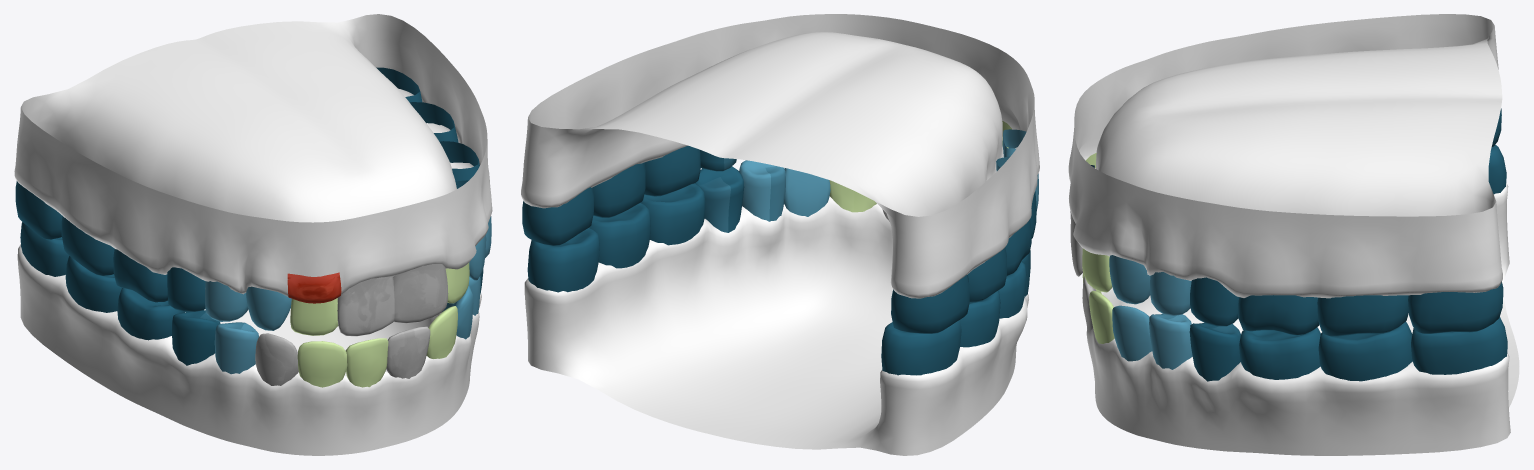
The model's file is mouth.fbx.
The picture shows the model from 3 angles, left to right: view 1: azimuth 30°, elevation 25°; view 2: azimuth 150°, elevation 25°; view 3: azimuth 270°, elevation 25°; orthographic projection. The views are drawn at different scales.
Parts seen in each view (by area): view 1: jaw_up, jaw_down, teeth.rest, target.teeth_y_1.001, target.teeth_y_2.001, target.teeth_r_3, target.teeth_y_3.001, target.teeth_y_4.001, target.teeth_r_4, target.teeth_r_2, blood_up.001, target.teeth_r_5 (+1 smaller); view 2: jaw_up, jaw_down, teeth.rest, target.teeth_r_5; view 3: jaw_up, jaw_down, teeth.rest, target.teeth_r_5, target.teeth_r_1, target.teeth_y_2.001.
Part boxes in pixels (<box>): jaw_up: <box>14,14,492,296</box>; jaw_down: <box>17,244,481,455</box>; teeth.rest: <box>15,67,491,374</box>; target.teeth_y_1.001: <box>337,276,394,336</box>; target.teeth_y_2.001: <box>393,264,448,323</box>; target.teeth_r_3: <box>297,341,347,387</box>; target.teeth_y_3.001: <box>255,333,298,385</box>; target.teeth_y_4.001: <box>386,326,430,378</box>; target.teeth_r_4: <box>345,338,388,387</box>; target.teeth_r_2: <box>290,298,338,335</box>; blood_up.001: <box>287,272,341,303</box>; target.teeth_r_5: <box>426,306,457,358</box>; jaw_up: <box>521,14,1039,298</box>; jaw_down: <box>524,196,1028,455</box>; teeth.rest: <box>522,129,1038,375</box>; target.teeth_r_5: <box>829,180,876,212</box>; jaw_up: <box>1068,14,1502,298</box>; jaw_down: <box>1086,183,1519,455</box>; teeth.rest: <box>1109,108,1507,381</box>; target.teeth_r_5: <box>1089,291,1114,343</box>; target.teeth_r_1: <box>1082,248,1112,292</box>; target.teeth_y_2.001: <box>1070,213,1082,276</box>.
Size of the model in its own units: 48.29 by 32.94 by 44.67.
